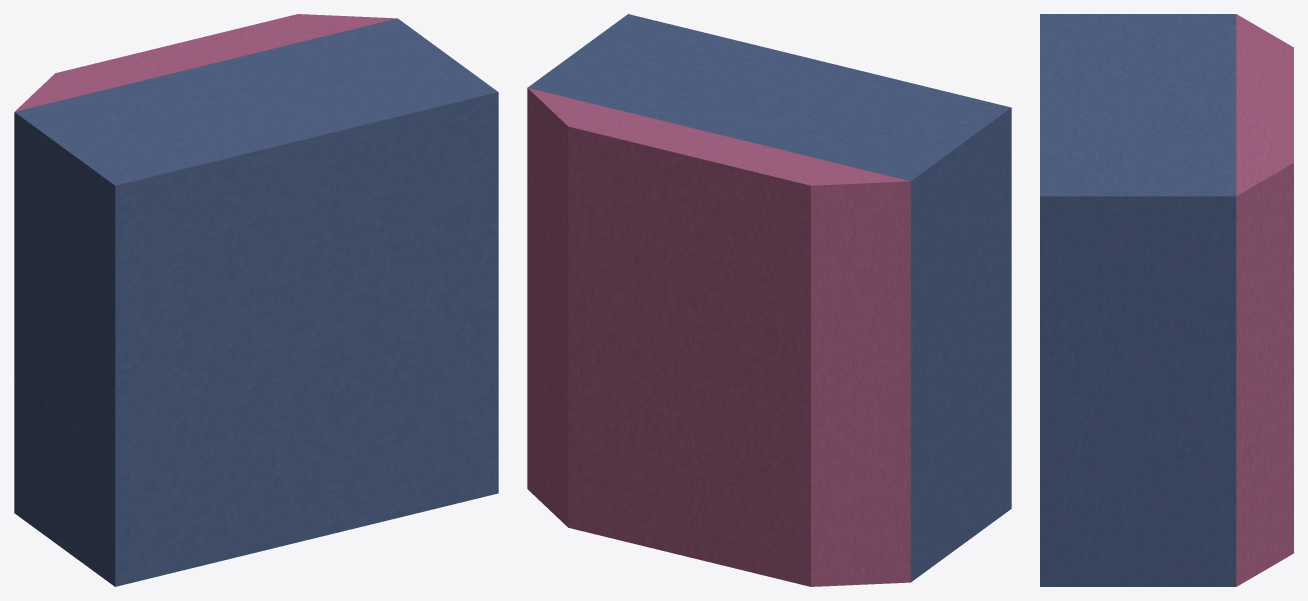
Rendered from de_pink_0.fbx.
3 views of the same model, side by side, from view 1: azimuth 30°, elevation 25°; view 2: azimuth 150°, elevation 25°; view 3: azimuth 270°, elevation 25° (orthographic). The views are drawn at different scales.
Visible parts, largest first — view 1: Cube.314; view 2: Cube.314; view 3: Cube.314.
Boxes of the visible parts, x1=… form: Cube.314: x1=14, y1=14, x2=498, y2=586; Cube.314: x1=527, y1=14, x2=1011, y2=586; Cube.314: x1=1040, y1=14, x2=1293, y2=586.
Size of the model in its own units: 176 by 176 by 103.
